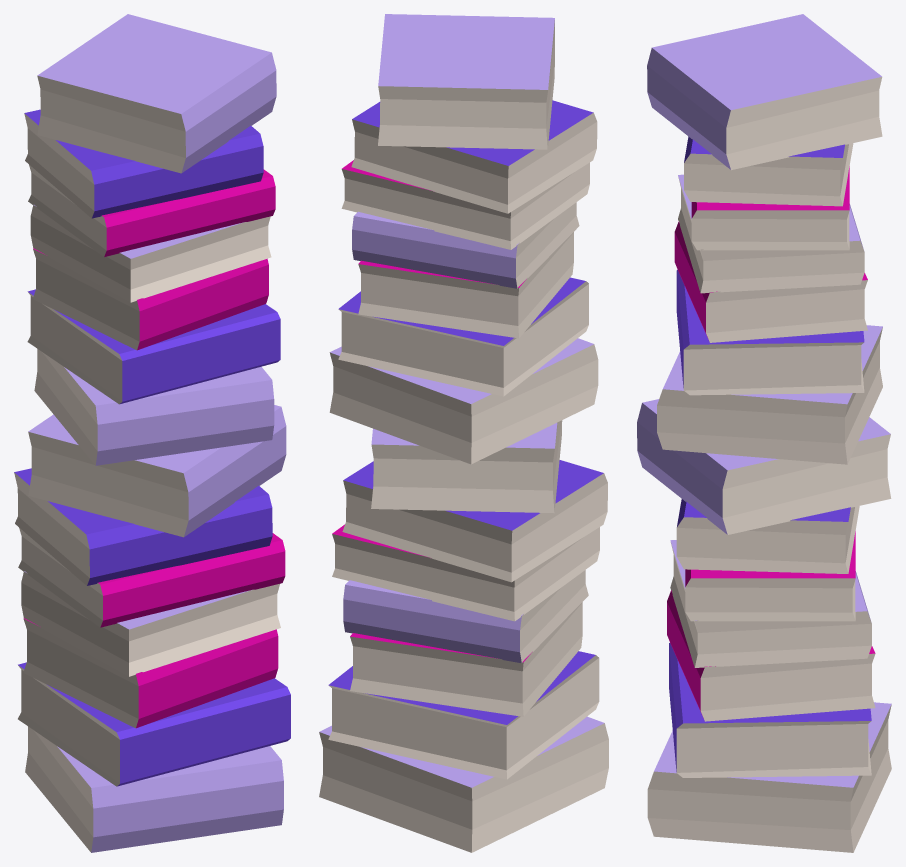
Rendered from 046_Books.fbx.
The picture shows the model from 3 angles, left to right: view 1: azimuth 30°, elevation 25°; view 2: azimuth 150°, elevation 25°; view 3: azimuth 270°, elevation 25°; orthographic projection.
Parts seen in each view (by area): view 1: Books; view 2: Books; view 3: Books.
Boxes of the visible parts, box(x1,y1,x2,y2) form: Books: box(14, 14, 290, 852); Books: box(319, 14, 608, 852); Books: box(637, 14, 891, 852).
Bounding box in the file's own units: 30.97 × 101 × 31.37.
